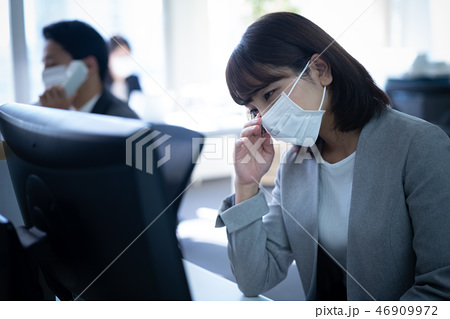mask: (253, 103, 331, 157)
